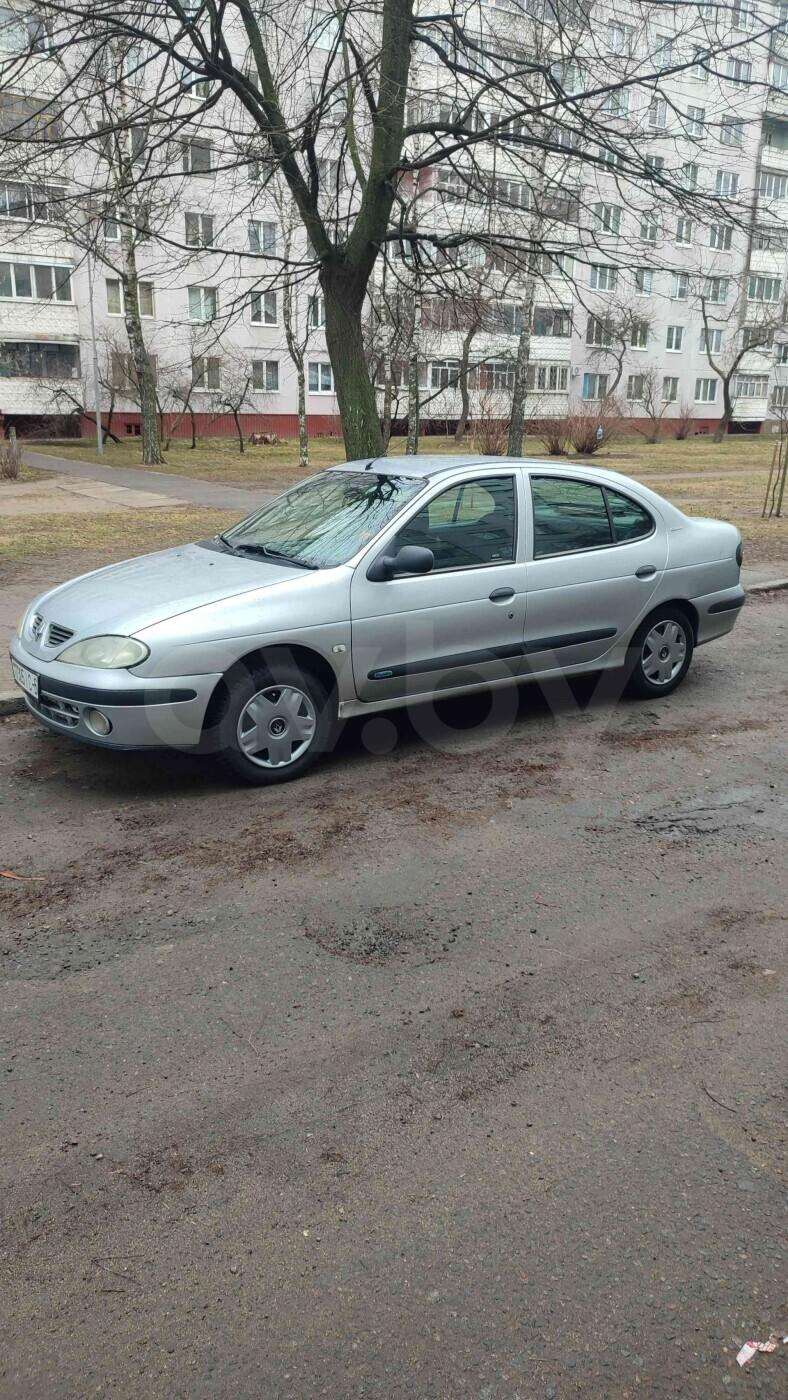Megane_1995-1999: (6, 456, 750, 782)
